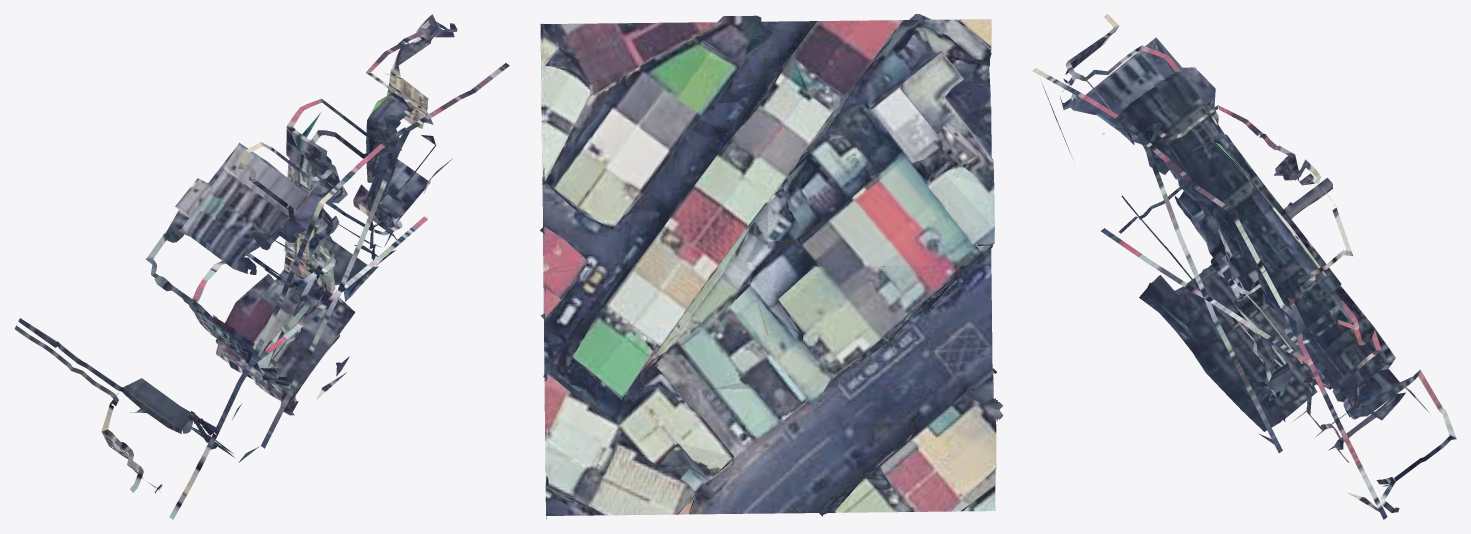
The picture shows the model from 3 angles, left to right: view 1: azimuth 30°, elevation 25°; view 2: azimuth 150°, elevation 25°; view 3: azimuth 270°, elevation 25°; orthographic projection. The views are drawn at different scales.
Bounding box in the file's own units: 93.11 × 77.06 × 76.36.
1 material, 1 textured.
